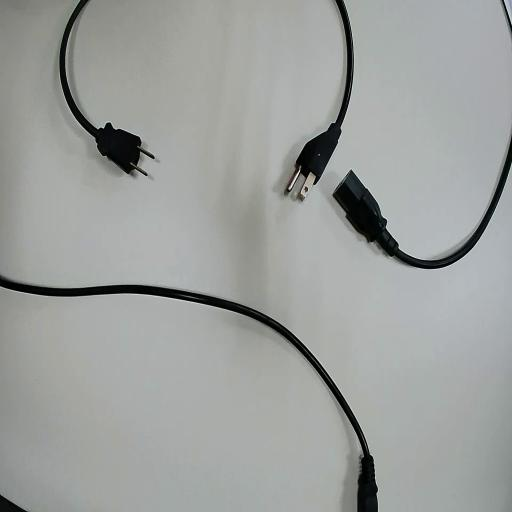wire: (334, 142, 511, 267), (60, 0, 151, 173), (295, 0, 351, 181)
